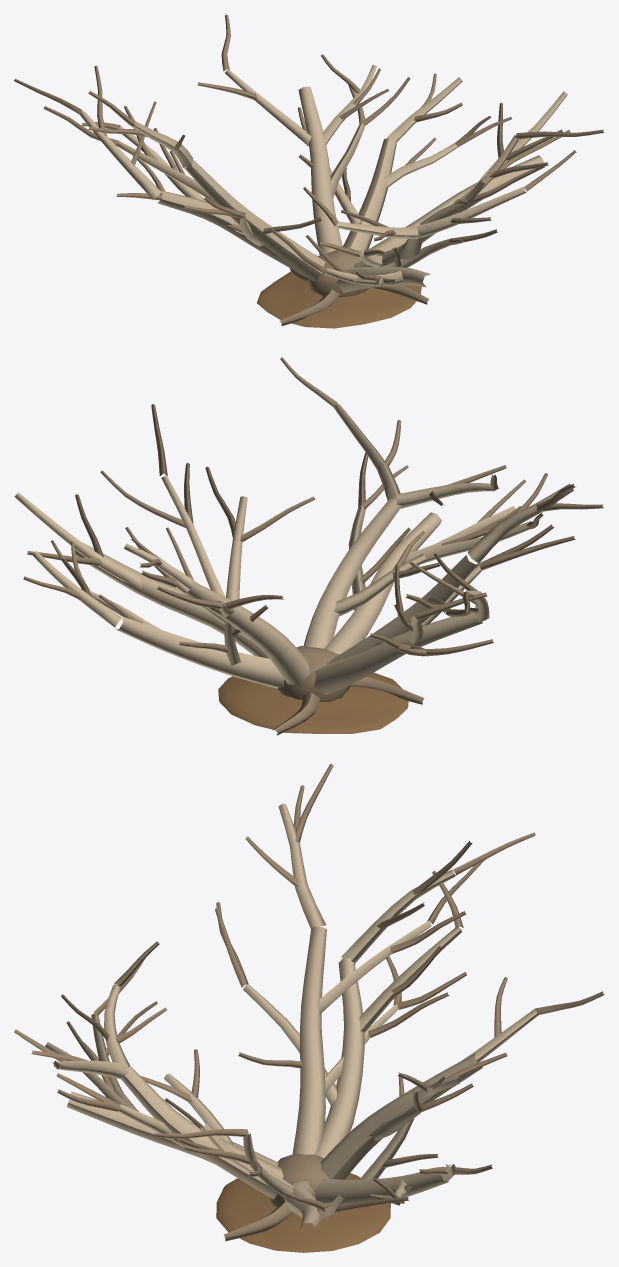
The model's file is detail_dead_scrub.glb.
3 renders of one model, top to bottom at view 1: azimuth 30°, elevation 25°; view 2: azimuth 150°, elevation 25°; view 3: azimuth 270°, elevation 25°, orthographic. The views are drawn at different scales.
Visible parts, largest first — view 1: wood, stone; view 2: wood, stone; view 3: wood, stone.
Part boxes in pixels (box(x1,y1,x2,y2)): wood: box(14, 14, 603, 326); stone: box(257, 271, 421, 328); wood: box(14, 357, 603, 735); stone: box(218, 672, 408, 733); wood: box(14, 764, 604, 1241); stone: box(216, 1173, 390, 1252).
Bounding box in the file's own units: 1.4 × 0.7 × 1.2.
